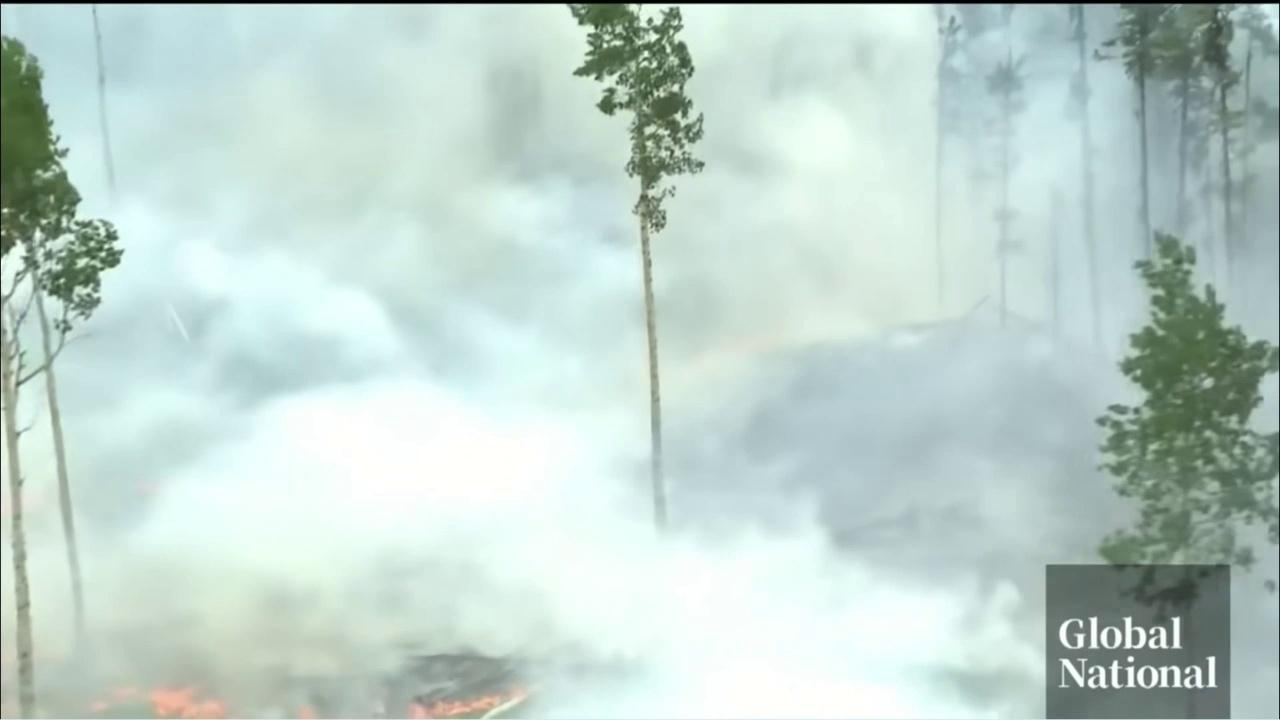fire: (89, 679, 233, 720), (407, 680, 531, 720), (291, 700, 322, 720)
smoke: (3, 5, 1280, 720)
